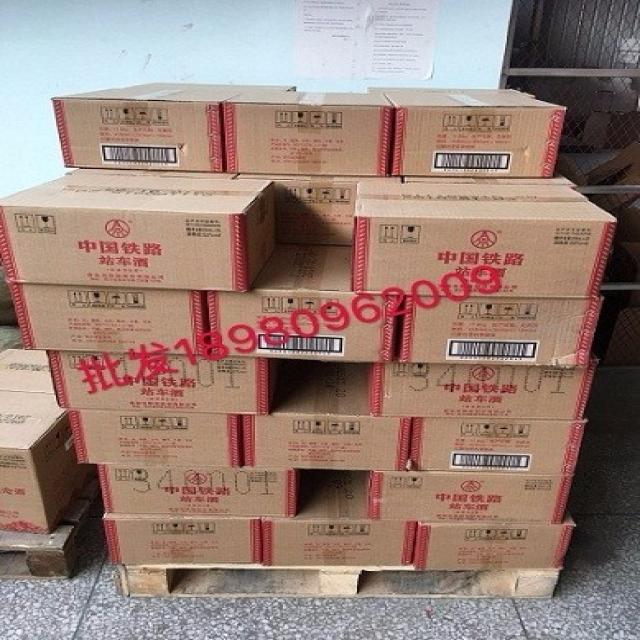box: (0, 174, 276, 293), (352, 181, 619, 301), (207, 244, 395, 364), (243, 359, 411, 471), (51, 86, 250, 173), (370, 355, 597, 421), (262, 470, 418, 566), (387, 94, 568, 176), (44, 351, 270, 416), (224, 90, 393, 176), (400, 296, 602, 366), (8, 285, 206, 356), (0, 390, 95, 536), (234, 174, 401, 245), (370, 471, 574, 524), (97, 465, 296, 518), (408, 418, 586, 474), (413, 509, 574, 570), (67, 412, 239, 467), (104, 513, 262, 566), (401, 170, 574, 186), (0, 349, 56, 393), (71, 168, 239, 181), (133, 81, 296, 91), (367, 88, 530, 96)
